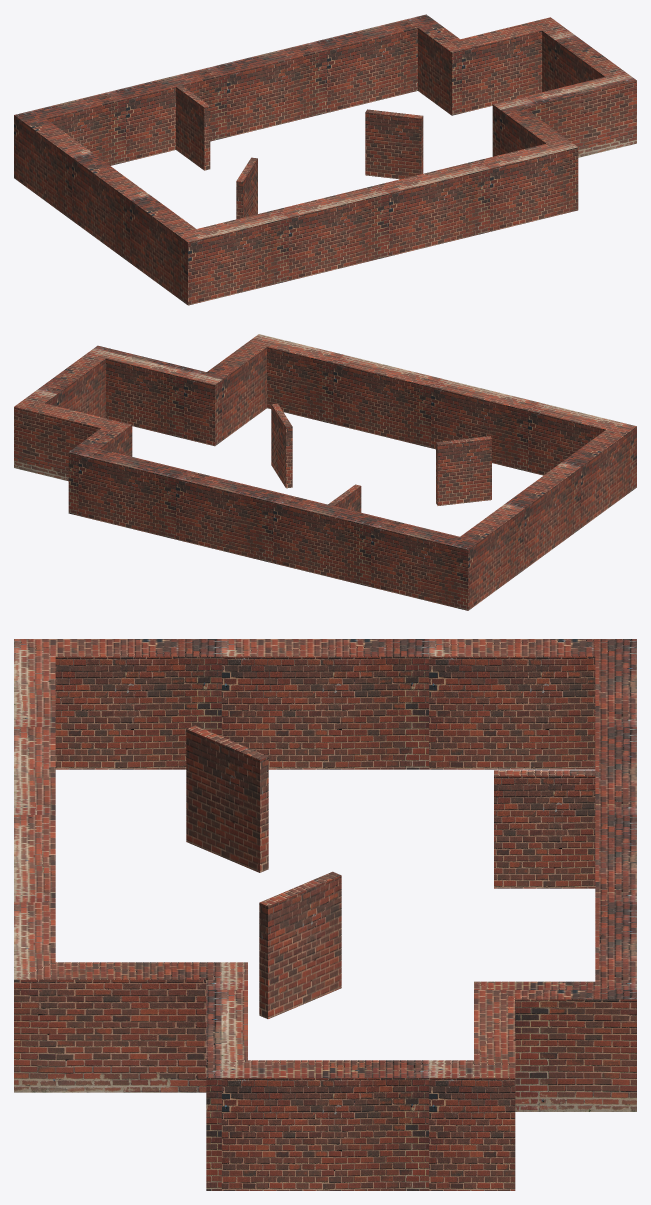
Rendered from Wall.FBX.
3 renders of one model, top to bottom at view 1: azimuth 30°, elevation 25°; view 2: azimuth 150°, elevation 25°; view 3: azimuth 270°, elevation 25°, orthographic. The views are drawn at different scales.
Parts seen in each view (by area): view 1: Box001, Box004, Box003, Box005; view 2: Box001, Box005, Box004, Box003; view 3: Box001, Box003, Box004, Box005.
Boxes of the visible parts, x1,y1,x2,y2 form: Box001: (14,14,636,305); Box004: (365,109,423,179); Box003: (176,85,210,170); Box005: (236,157,257,219); Box001: (14,334,636,610); Box005: (436,436,491,505); Box004: (271,403,292,488); Box003: (328,484,361,512); Box001: (14,639,636,1190); Box003: (494,770,597,888); Box004: (259,871,341,1018); Box005: (186,725,268,872).
Size of the model in its own units: 250 by 30 by 150.
Materials: 1 (1 with a texture image).
